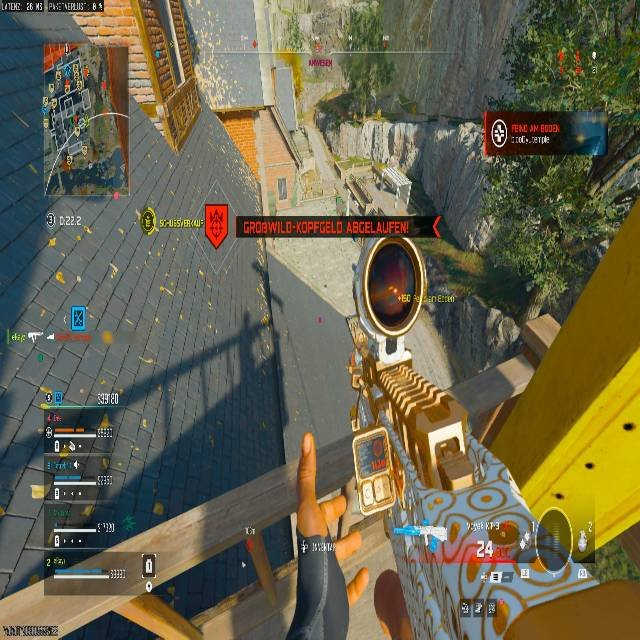head: (367, 246, 423, 318)
player: (301, 118, 639, 640)
